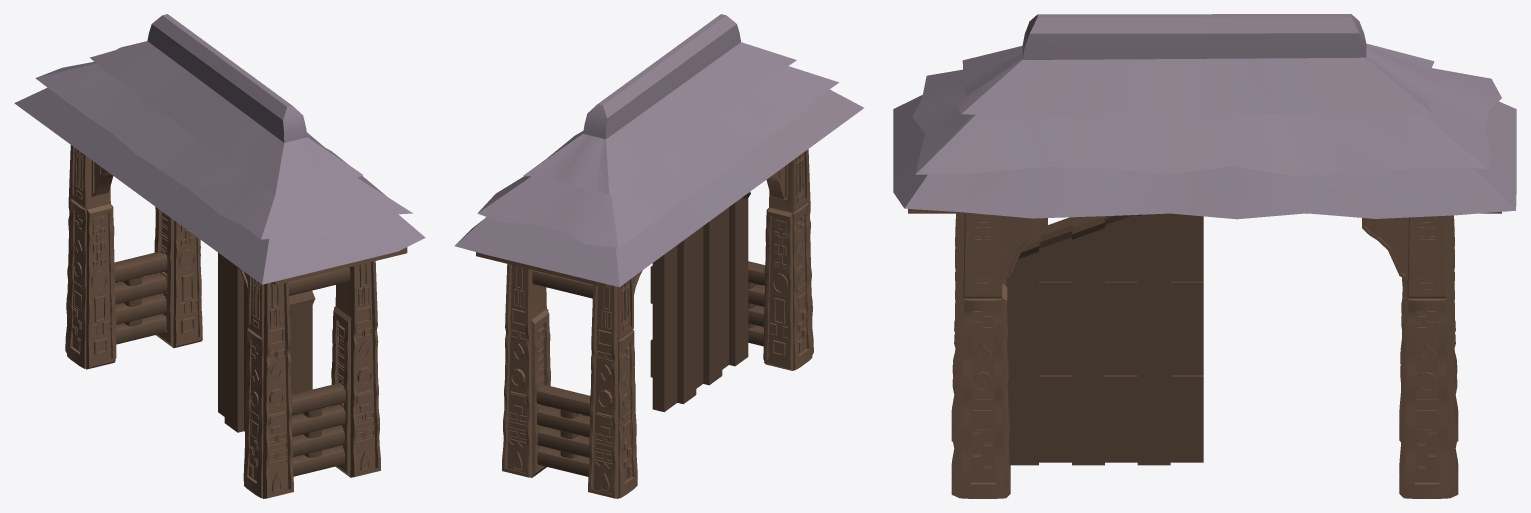
File: Gate.fbx
The picture shows the model from 3 angles, left to right: view 1: azimuth 30°, elevation 25°; view 2: azimuth 150°, elevation 25°; view 3: azimuth 270°, elevation 25°; orthographic projection. The views are drawn at different scales.
Parts seen in each view (by area): view 1: Cube.001, Cube, Cube.002, Cube.009; view 2: Cube.001, Cube, Cube.009, Cube.002; view 3: Cube.001, Cube.009, Cube.
Part boxes in pixels (box(x1,y1,x2,y2)): Cube.001: box(14, 14, 425, 284); Cube: box(65, 145, 407, 498); Cube.002: box(114, 251, 350, 476); Cube.009: box(218, 252, 315, 432); Cube.001: box(454, 14, 863, 287); Cube: box(476, 149, 813, 498); Cube.009: box(650, 192, 750, 412); Cube.002: box(532, 261, 765, 476); Cube.001: box(893, 14, 1516, 219); Cube.009: box(1006, 213, 1203, 465); Cube: box(908, 209, 1501, 498).
Bounding box in the file's own units: 242 × 471 × 594.
